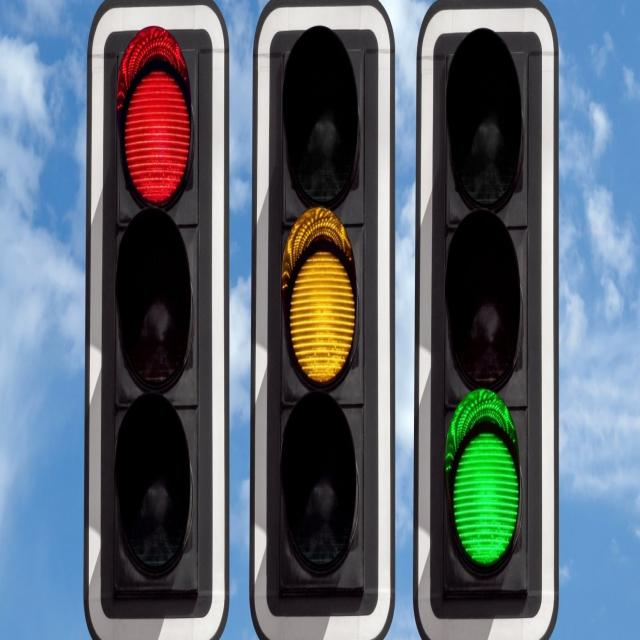green-lights: (441, 394, 535, 592)
red-lights: (114, 39, 196, 209)
yellow-lights: (284, 229, 362, 396)
